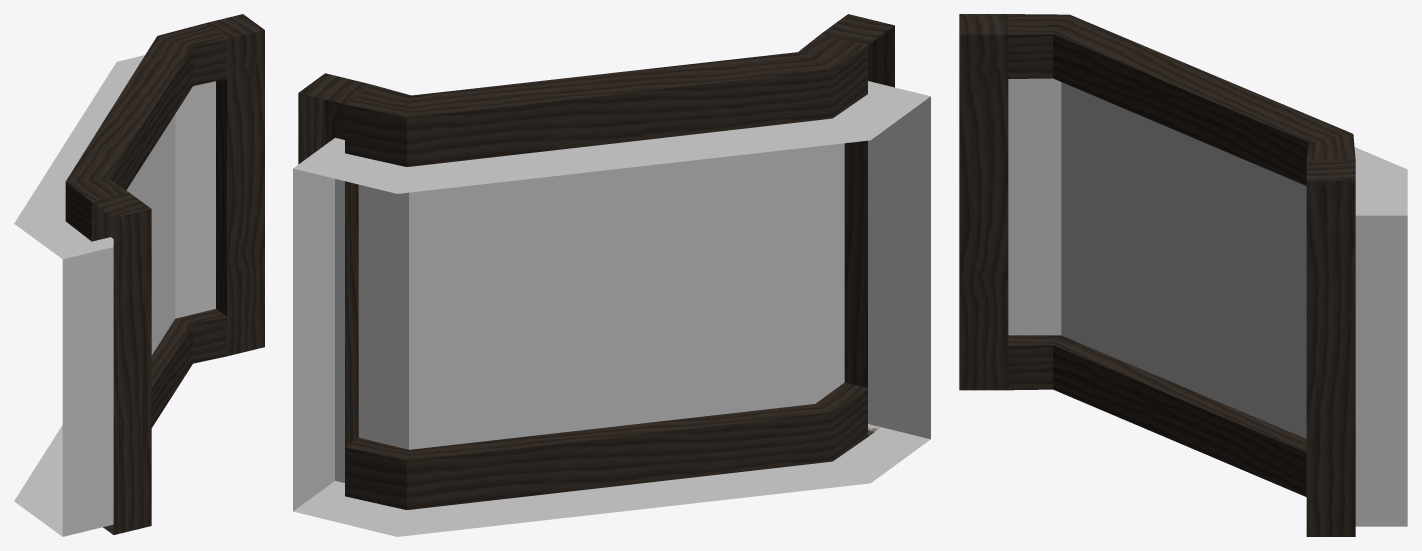
The model's file is FerryModularWallCornerTop.fbx.
The picture shows the model from 3 angles, left to right: view 1: azimuth 30°, elevation 25°; view 2: azimuth 150°, elevation 25°; view 3: azimuth 270°, elevation 25°; orthographic projection. The views are drawn at different scales.
Visible parts, largest first — view 1: Ferry Wall Corner001; view 2: Ferry Wall Corner001; view 3: Ferry Wall Corner001.
Part boxes in pixels (<box>): Ferry Wall Corner001: <box>14,14,264,536</box>; Ferry Wall Corner001: <box>293,14,930,536</box>; Ferry Wall Corner001: <box>959,14,1407,536</box>.
Bounding box in the file's own units: 587 × 514 × 587.
